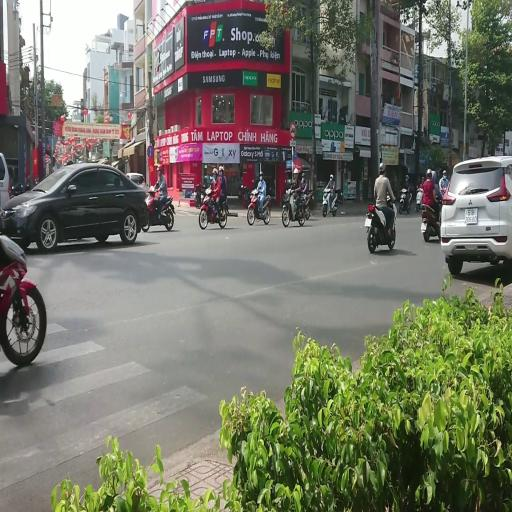bikes: (0, 232, 47, 366), (364, 200, 396, 253), (142, 187, 175, 231), (198, 188, 228, 229), (420, 197, 442, 242), (281, 188, 306, 226), (247, 189, 271, 225), (322, 187, 338, 217), (299, 190, 314, 220), (239, 181, 255, 206), (398, 187, 412, 214), (194, 183, 206, 208), (415, 186, 423, 212), (334, 188, 344, 204)
helmet: (379, 162, 386, 174), (426, 168, 432, 176), (212, 168, 218, 175), (218, 166, 224, 173), (205, 188, 212, 194), (286, 179, 292, 186), (432, 171, 436, 181), (293, 168, 299, 174), (156, 165, 162, 171), (442, 170, 447, 176), (149, 186, 154, 192), (293, 152, 298, 158), (438, 168, 442, 175), (405, 175, 409, 181), (301, 172, 305, 178), (421, 177, 425, 182), (402, 188, 406, 193), (330, 174, 333, 180), (260, 171, 263, 177)
